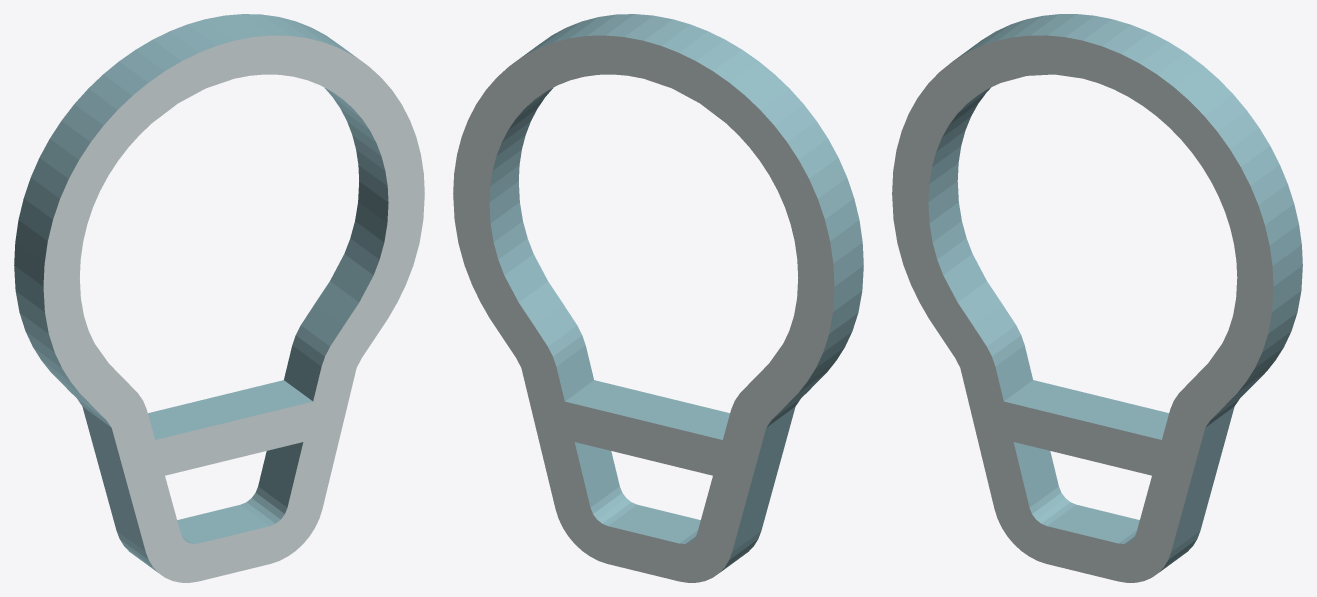
Rendered from codicon_lightbulb_v01.glb.
3 views of the same model, side by side, from view 1: azimuth 30°, elevation 25°; view 2: azimuth 150°, elevation 25°; view 3: azimuth 330°, elevation 25° (orthographic).
Visible parts, largest first — view 1: codicon_lightbulb; view 2: codicon_lightbulb; view 3: codicon_lightbulb.
Part boxes in pixels (x1,y1,x2,y2): codicon_lightbulb: (14, 14, 424, 582); codicon_lightbulb: (453, 14, 863, 582); codicon_lightbulb: (892, 14, 1302, 582).
Size of the model in its own units: 0.45 by 0.6 by 0.06.
Materials: 1 (1 with a texture image).
